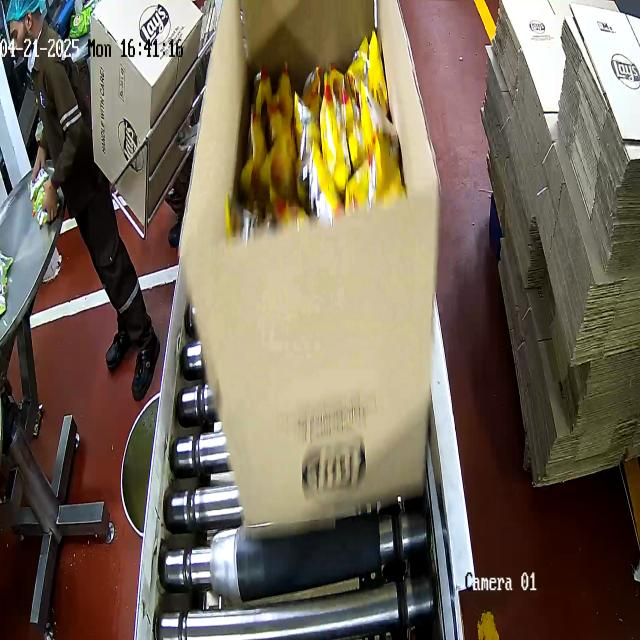SALTED: (237, 25, 402, 227)
